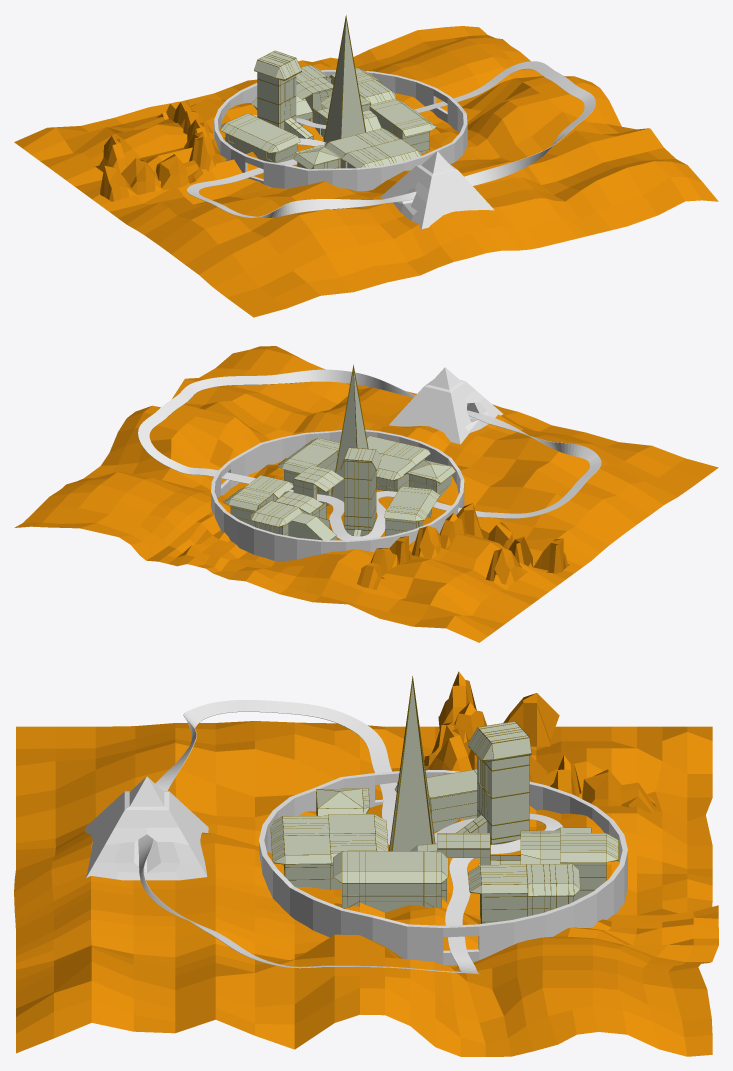
File: JWT_P_Sand DUne_NewMap_Test.fbx
3 renders of one model, top to bottom at view 1: azimuth 30°, elevation 25°; view 2: azimuth 150°, elevation 25°; view 3: azimuth 270°, elevation 25°, orthographic. The views are drawn at different scales.
Visible parts, largest first — view 1: Plane, Cylinder, Cube.012, Pyramid, Cube.001, Cube.002, Cube.007, Cube, Cube.003, Plane.005, Plane.007, Cube.013 (+8 smaller); view 2: Plane, Cylinder, Cube.012, Pyramid, Cube, Cube.001, Cube.007, Cube.002, Cube.003, Cube.013, Cube.009, Cube.005 (+10 smaller); view 3: Plane, Cylinder, Pyramid, Cube.012, Cube.001, Cube.003, Cube.002, Cube, Cube.004, Cube.011, Cube.009, Cube.007 (+11 smaller).
Boxes of the visible parts, box(x1,y1,x2,y2) form: Plane: box(14, 26, 718, 317); Cylinder: box(214, 70, 467, 191); Cube.012: box(187, 61, 595, 217); Pyramid: box(380, 151, 494, 228); Cube.001: box(254, 50, 313, 139); Cube.002: box(323, 15, 365, 142); Cube.007: box(220, 113, 300, 162); Cube: box(250, 77, 381, 138); Cube.003: box(369, 98, 436, 153); Plane.005: box(155, 154, 202, 190); Plane.007: box(121, 158, 161, 194); Cube.013: box(293, 145, 345, 169); Plane: box(14, 346, 718, 642); Cylinder: box(211, 429, 464, 561); Cube.012: box(138, 369, 601, 540); Pyramid: box(389, 367, 502, 444); Cube: box(275, 465, 344, 540); Cube.001: box(340, 447, 381, 536); Cube.007: box(384, 486, 440, 536); Cube.002: box(331, 364, 368, 500); Cube.003: box(277, 438, 339, 489); Cube.013: box(404, 460, 455, 498); Cube.009: box(250, 500, 302, 535); Cube.005: box(376, 454, 415, 491); Plane: box(14, 721, 718, 1056); Cylinder: box(259, 770, 627, 965); Pyramid: box(85, 776, 208, 880); Cube.012: box(138, 700, 563, 974); Cube.001: box(456, 721, 531, 858); Cube.003: box(333, 851, 448, 912); Cube.002: box(389, 676, 435, 851); Cube: box(410, 827, 591, 915); Cube.004: box(468, 864, 527, 923); Cube.011: box(271, 835, 331, 889); Cube.009: box(560, 833, 618, 901); Cube.007: box(394, 769, 477, 831).
Size of the model in its own units: 201006 by 60878 by 181435.
